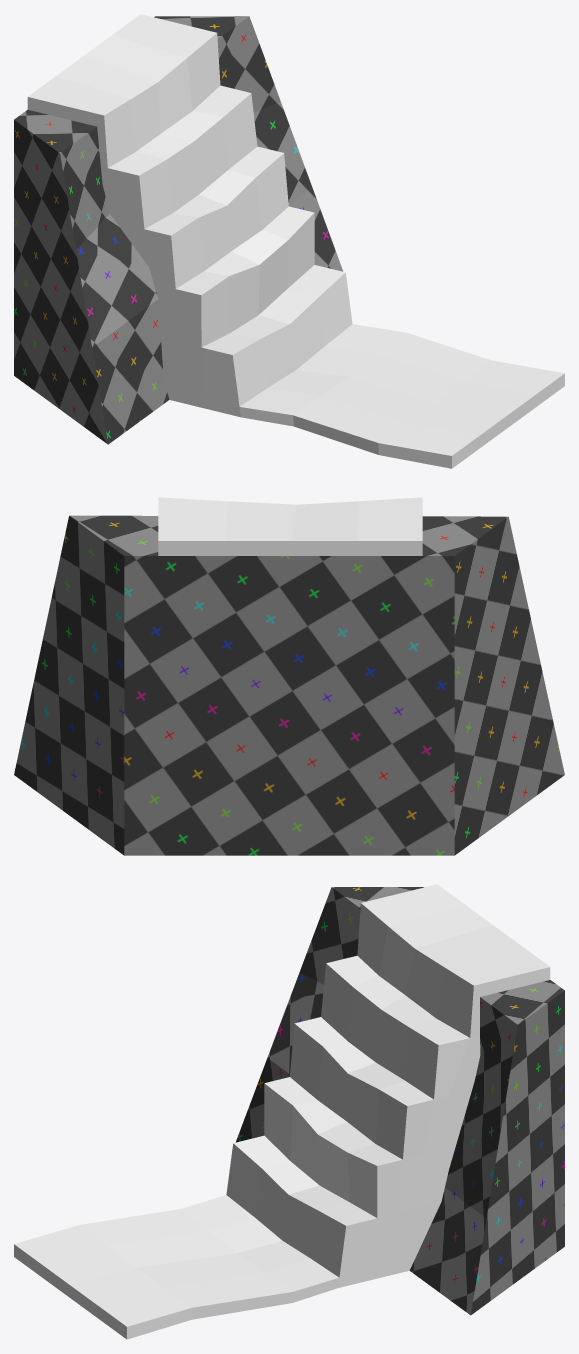
The model's file is module-corner_land_cliff_small_stairs.glb.
The picture shows the model from 3 angles, top to bottom: view 1: azimuth 30°, elevation 25°; view 2: azimuth 150°, elevation 25°; view 3: azimuth 270°, elevation 25°; orthographic projection. The views are drawn at different scales.
Parts seen in each view (by area): view 1: module-corner_land_cliff_small_stairs; view 2: module-corner_land_cliff_small_stairs; view 3: module-corner_land_cliff_small_stairs.
Part boxes in pixels (x1=…): module-corner_land_cliff_small_stairs: x1=14, y1=14, x2=564, y2=468; module-corner_land_cliff_small_stairs: x1=14, y1=497, x2=564, y2=855; module-corner_land_cliff_small_stairs: x1=14, y1=884, x2=564, y2=1339.
Bounding box in the file's own units: 0.8227 × 0.525 × 0.975.
Materials: 2 (1 with a texture image).
